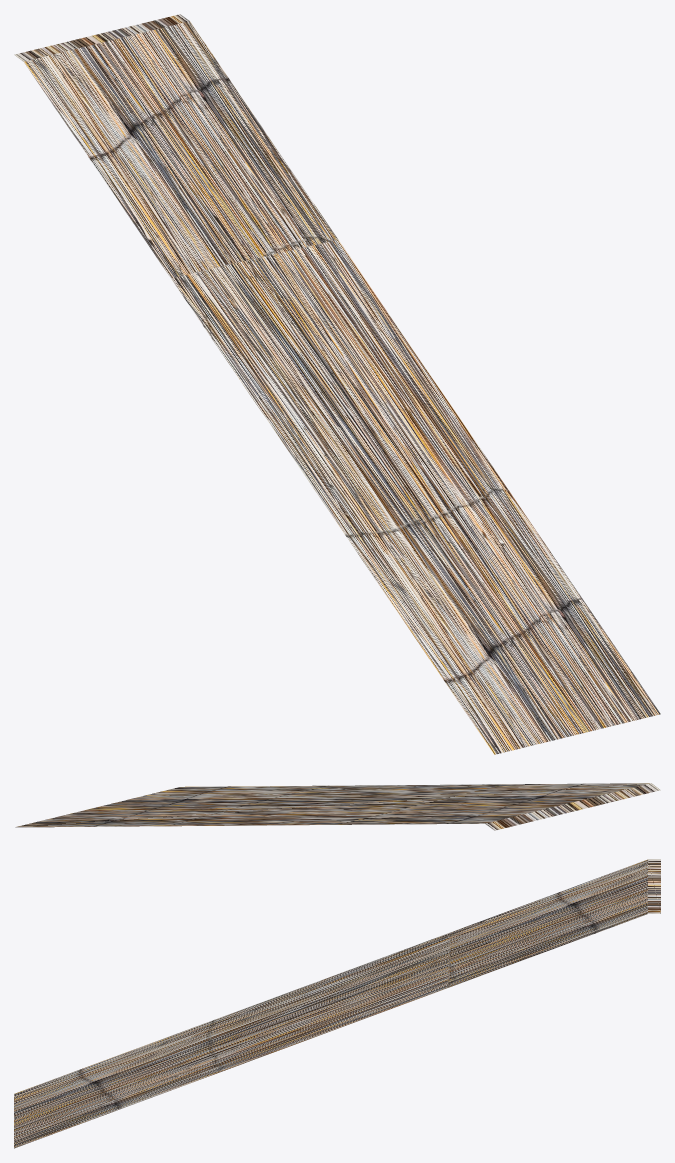
File: HouseRoof.fbx
3 renders of one model, top to bottom at view 1: azimuth 30°, elevation 25°; view 2: azimuth 210°, elevation 25°; view 3: azimuth 270°, elevation 25°, orthographic. The views are drawn at different scales.
Parts seen in each view (by area): view 1: Roof; view 2: Roof; view 3: Roof.
Boxes of the visible parts, x1,y1,x2,y2 form: Roof: (14, 14, 660, 754); Roof: (15, 783, 660, 830); Roof: (14, 859, 660, 1148).
Size of the model in its own units: 100 by 200 by 500.
